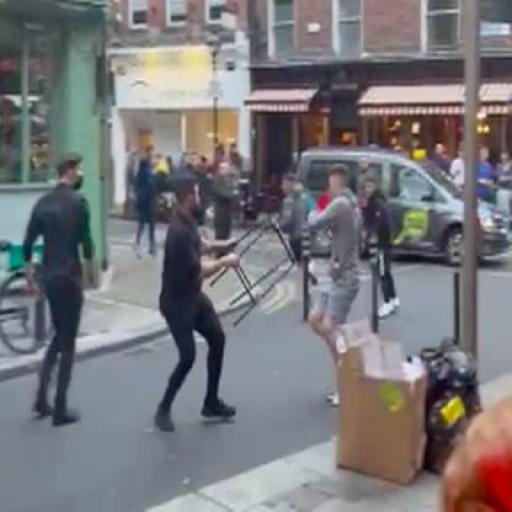Fighting: (134, 152, 417, 436)
